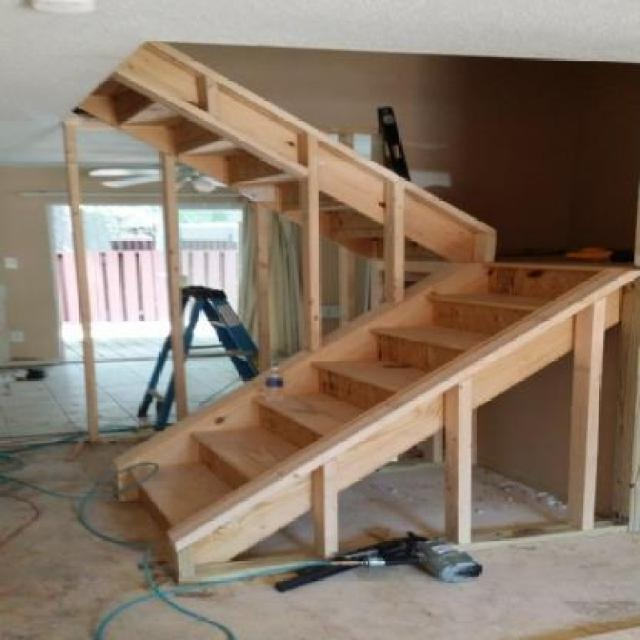stair: (78, 40, 638, 586)
